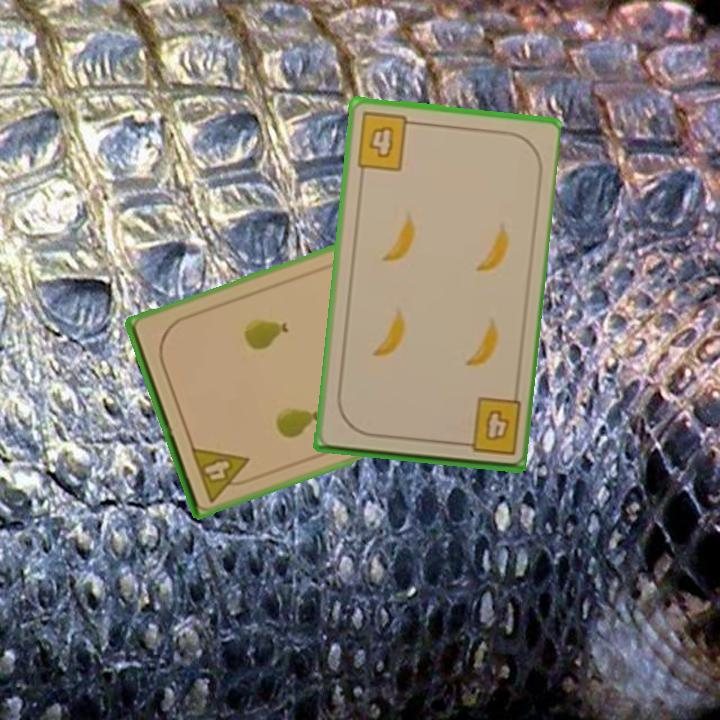4b: (453, 394, 523, 459), (353, 109, 420, 174)
4p: (187, 442, 258, 505)
